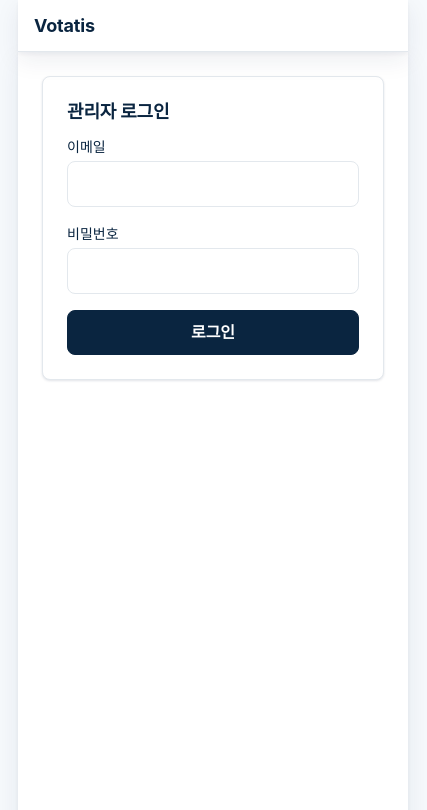
Scenario: LoginPage › 429 이면 잠시 후 재시도 안내를 표시한다
In the field labelled "이메일": (213, 184) [67,160,359,206], type "a@b.com"
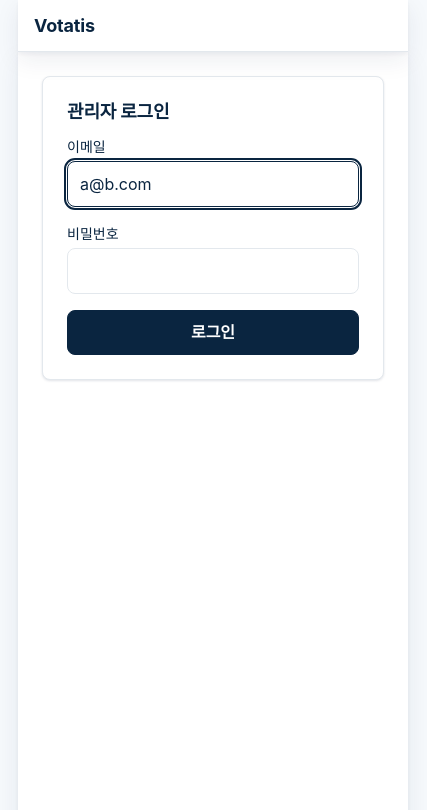
In the password field labelled "비밀번호": (213, 270) [67,248,359,294], type "pw"
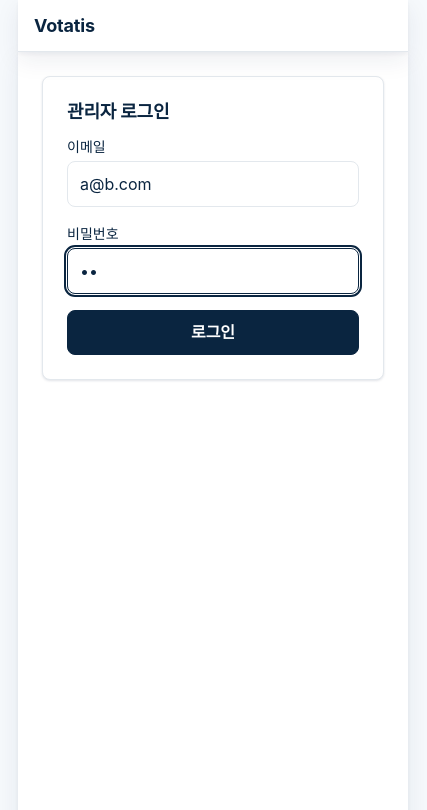
Click the button "로그인": (213, 332) [67,310,359,355]
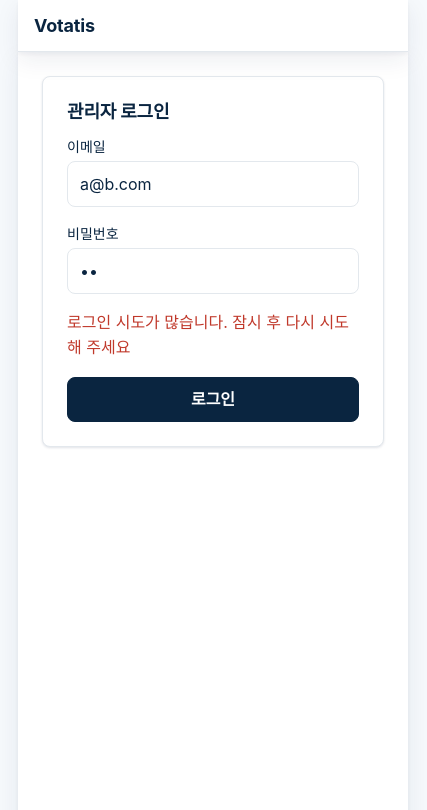
Expected: the text "로그인 시도가 많습니다. 잠시 후 다시 시도해 주세요" is shown, [67,310,359,361]
